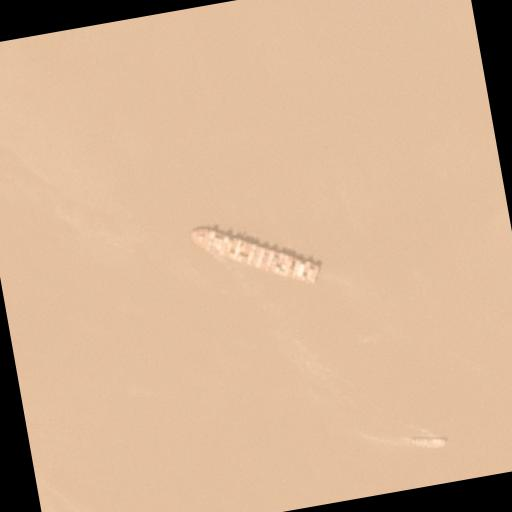ship: (188, 207, 324, 305), (410, 430, 450, 454)
